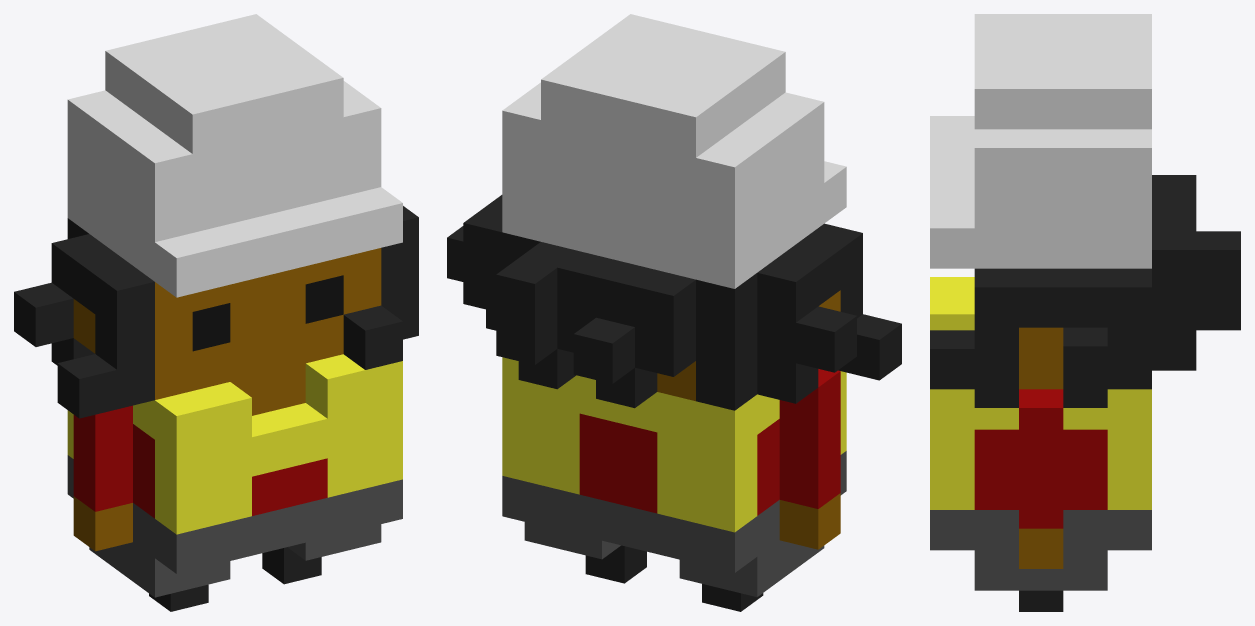
The model's file is chr_worker2.obj.
3 renders of one model, left to right at view 1: azimuth 30°, elevation 25°; view 2: azimuth 150°, elevation 25°; view 3: azimuth 270°, elevation 25°, orthographic. The views are drawn at different scales.
Size of the model in its own units: 1 by 1.3 by 0.7.
1 material, 1 textured.
